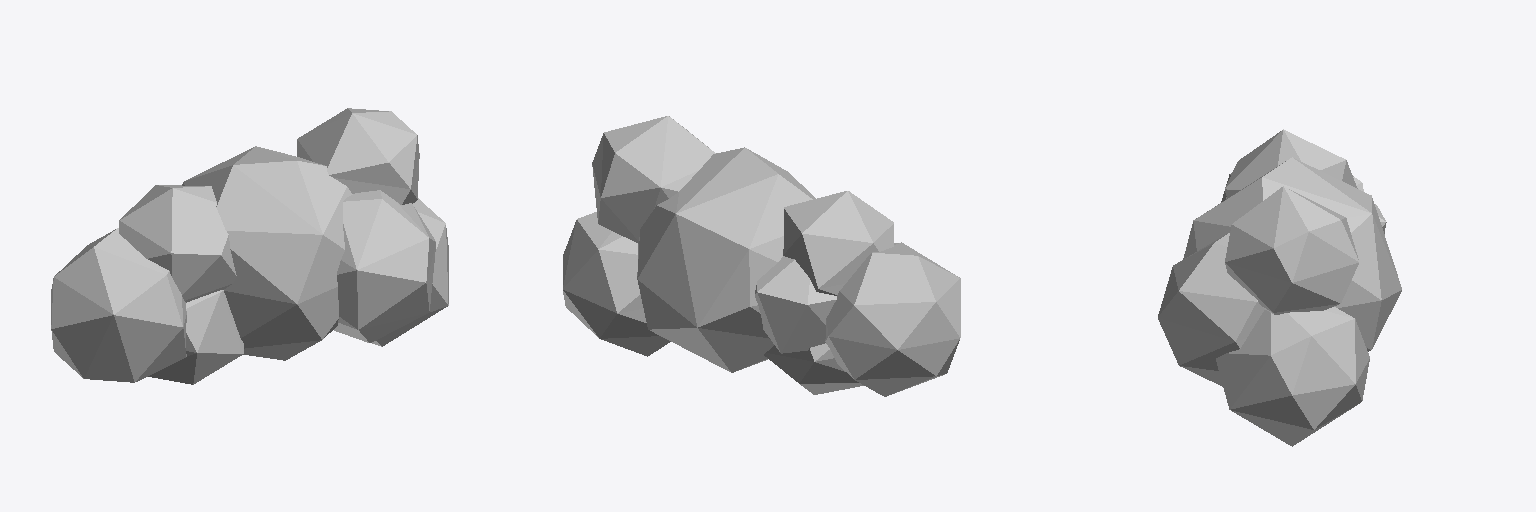
File: cloud2.obj
The picture shows the model from 3 angles: view 1: azimuth 30°, elevation 25°; view 2: azimuth 150°, elevation 25°; view 3: azimuth 270°, elevation 25°; orthographic projection.
Parts seen in each view (by area): view 1: Cloud_2_Icosphere.043; view 2: Cloud_2_Icosphere.043; view 3: Cloud_2_Icosphere.043.
Part boxes in pixels (left/top/right/bottom): Cloud_2_Icosphere.043: left=51, top=108, right=448, bottom=384; Cloud_2_Icosphere.043: left=563, top=116, right=960, bottom=396; Cloud_2_Icosphere.043: left=1158, top=129, right=1401, bottom=446.
Bounding box in the file's own units: 4.14 × 2.35 × 2.21.